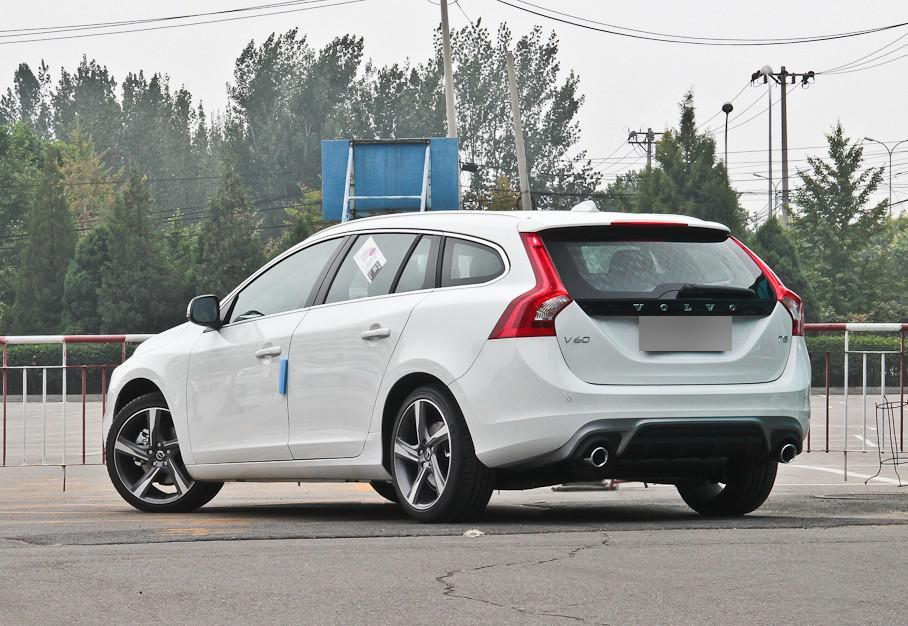Wagon: (102, 210, 812, 524)
